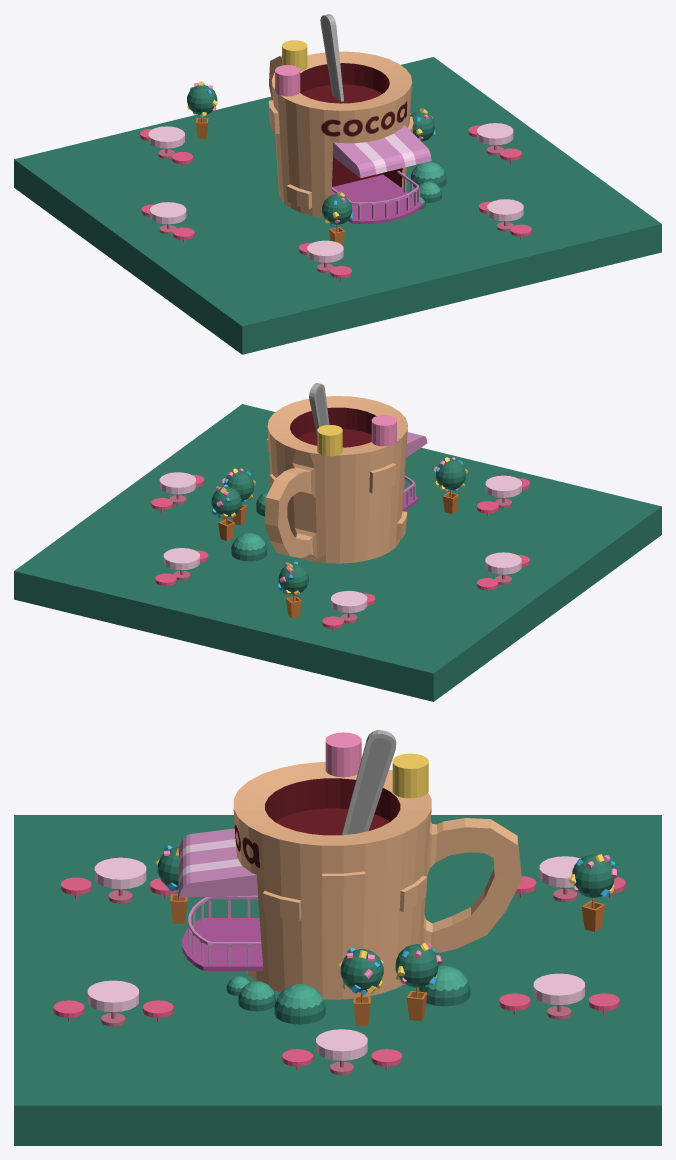
Rendered from D2_COCOA_MUG.fbx.
3 views of the same model, one above another, from view 1: azimuth 30°, elevation 25°; view 2: azimuth 150°, elevation 25°; view 3: azimuth 270°, elevation 25° (orthographic). The views are drawn at different scales.
Visible parts, largest first — view 1: Cube.026, Cylinder.030, Plane.038, Cylinder.056, Cylinder.068, Cylinder.063, Cylinder.065, Cylinder.069, Cylinder.067, Cube.027, Cube.031, Cube.030 (+5 smaller); view 2: Cube.026, Cylinder.030, Cylinder.064, Cylinder.063, Cylinder.068, Cylinder.067, Cylinder.069, Cube.030, Cube.029, Cube.031, Cube.028, Sphere.017 (+3 smaller); view 3: Cube.026, Cylinder.030, Plane.038, Cylinder.056, Cube.027, Cylinder.064, Cylinder.065, Cylinder.063, Cylinder.067, Cube.031, Cube.029, Cube.028 (+8 smaller).
Part boxes in pixels (x1=…): Cube.026: x1=14, y1=57, x2=661, y2=354; Cylinder.030: x1=268, y1=51, x2=413, y2=217; Plane.038: x1=332, y1=125, x2=431, y2=178; Cylinder.056: x1=331, y1=174, x2=422, y2=223; Cylinder.068: x1=141, y1=202, x2=194, y2=242; Cylinder.063: x1=468, y1=123, x2=521, y2=163; Cylinder.065: x1=479, y1=199, x2=531, y2=239; Cylinder.069: x1=140, y1=126, x2=192, y2=166; Cylinder.067: x1=299, y1=240, x2=351, y2=281; Cube.027: x1=320, y1=14, x2=343, y2=101; Cube.031: x1=187, y1=81, x2=217, y2=138; Cube.030: x1=322, y1=191, x2=352, y2=245; Cube.026: x1=14, y1=404, x2=661, y2=701; Cylinder.030: x1=264, y1=396, x2=407, y2=563; Cylinder.064: x1=155, y1=548, x2=208, y2=588; Cylinder.063: x1=151, y1=472, x2=204, y2=512; Cylinder.068: x1=477, y1=552, x2=529, y2=593; Cylinder.067: x1=477, y1=475, x2=529, y2=516; Cylinder.069: x1=322, y1=591, x2=375, y2=631; Cube.030: x1=434, y1=457, x2=467, y2=513; Cube.029: x1=211, y1=484, x2=241, y2=541; Cube.031: x1=278, y1=561, x2=308, y2=617; Cube.028: x1=222, y1=468, x2=255, y2=525; Sphere.017: x1=231, y1=532, x2=266, y2=561; Cube.026: x1=14, y1=815, x2=661, y2=1145; Cylinder.030: x1=233, y1=762, x2=521, y2=999; Plane.038: x1=178, y1=828, x2=258, y2=897; Cylinder.056: x1=182, y1=918, x2=263, y2=970; Cube.027: x1=342, y1=730, x2=396, y2=835; Cylinder.064: x1=499, y1=973, x2=619, y2=1019; Cylinder.065: x1=53, y1=980, x2=173, y2=1026; Cylinder.063: x1=282, y1=1029, x2=401, y2=1075; Cylinder.067: x1=61, y1=857, x2=177, y2=903; Cube.031: x1=569, y1=854, x2=616, y2=931; Cube.029: x1=395, y1=942, x2=442, y2=1021; Cube.028: x1=338, y1=947, x2=383, y2=1025.
Size of the model in its own units: 2588 by 1132 by 2439.
Materials: 7 (2 with a texture image).
